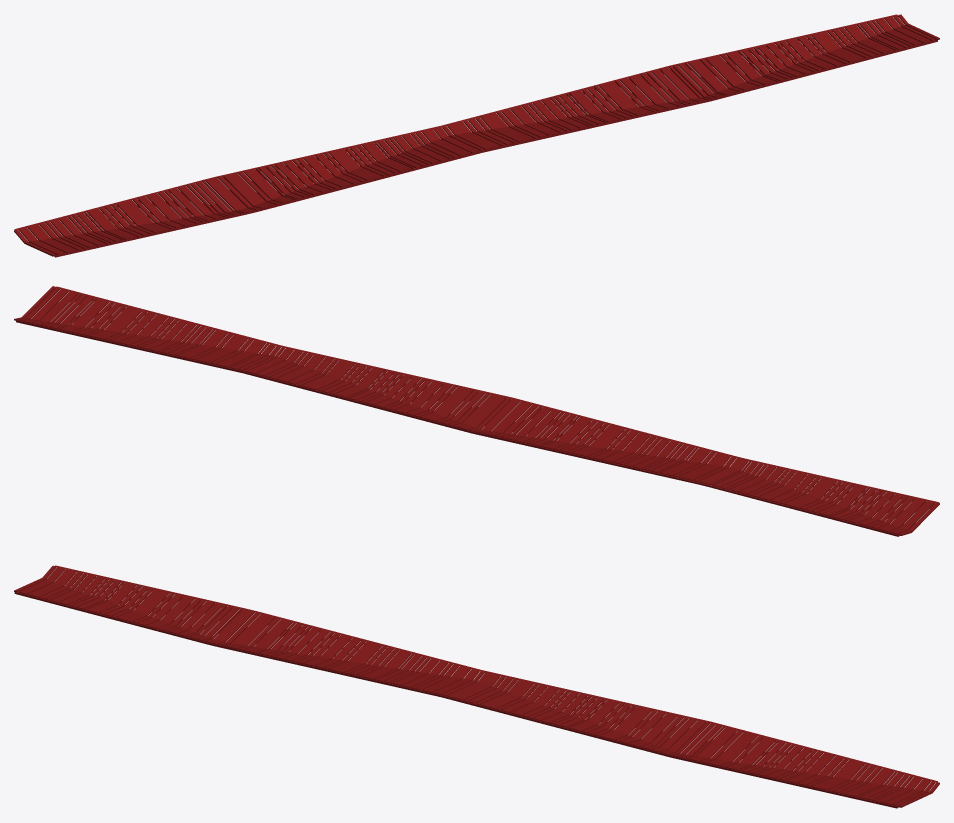
File: SM_Shed_v03.FBX
The picture shows the model from 3 angles, top to bottom: view 1: azimuth 30°, elevation 25°; view 2: azimuth 150°, elevation 25°; view 3: azimuth 330°, elevation 25°; orthographic projection.
Visible parts, largest first — view 1: SM_Shed_v03; view 2: SM_Shed_v03; view 3: SM_Shed_v03.
Boxes of the visible parts, box(x1,y1,x2,y2) form: SM_Shed_v03: box(14, 14, 939, 257); SM_Shed_v03: box(14, 286, 939, 536); SM_Shed_v03: box(14, 565, 939, 808).
Size of the model in its own units: 149 by 1.58 by 11.85.
